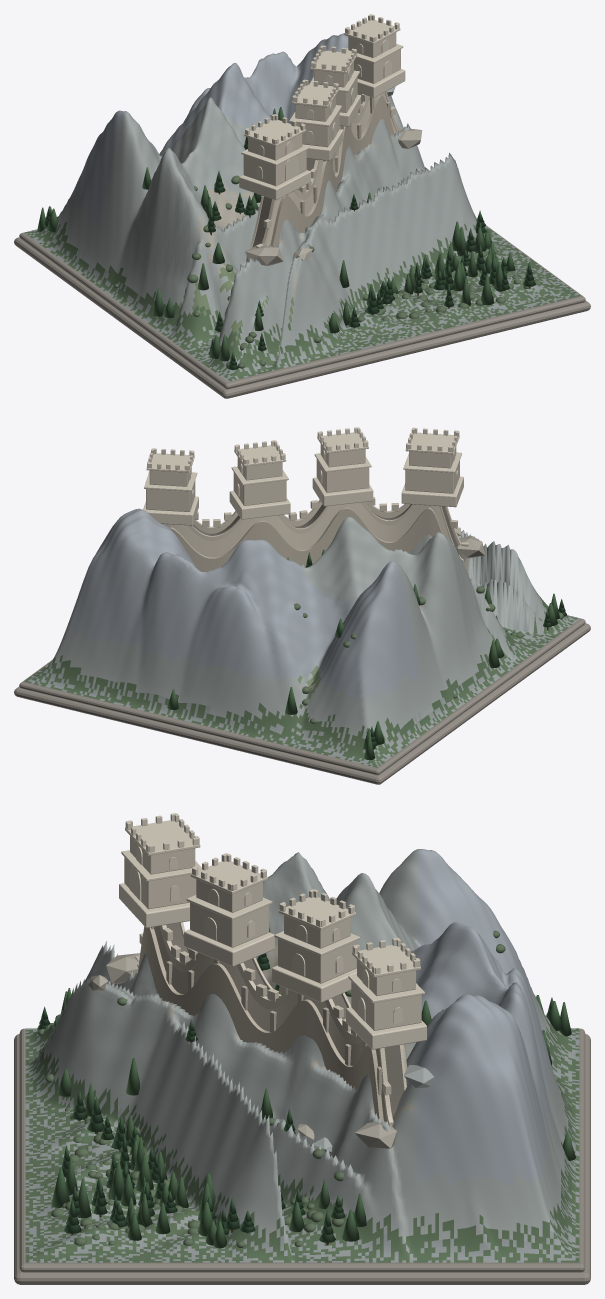
The model's file is great-wall.glb.
3 renders of one model, top to bottom at view 1: azimuth 30°, elevation 25°; view 2: azimuth 150°, elevation 25°; view 3: azimuth 270°, elevation 25°, orthographic. The views are drawn at different scales.
Visible parts, largest first — view 1: Ridge, Watchtowers, DioramaBase, GreatWall, CypressForest, PineForest, Shrubs, TowerOpenings, Rocks; view 2: Ridge, Watchtowers, GreatWall, DioramaBase, CypressForest, Shrubs, Rocks; view 3: Ridge, Watchtowers, DioramaBase, GreatWall, CypressForest, PineForest, Shrubs, Rocks, TowerOpenings.
Part boxes in pixels (x1,y1,x2,y2): Ridge: [24, 33, 580, 381]; Watchtowers: [239, 14, 405, 200]; DioramaBase: [14, 225, 590, 398]; GreatWall: [246, 91, 400, 261]; CypressForest: [37, 107, 515, 361]; PineForest: [43, 124, 535, 370]; Shrubs: [114, 115, 541, 368]; TowerOpenings: [256, 39, 391, 180]; Rocks: [245, 86, 422, 265]; Ridge: [24, 508, 580, 767]; Watchtowers: [143, 427, 463, 525]; GreatWall: [162, 497, 469, 574]; DioramaBase: [14, 618, 590, 784]; CypressForest: [167, 549, 559, 760]; Shrubs: [294, 586, 563, 723]; Rocks: [455, 527, 484, 558]; Ridge: [25, 849, 579, 1262]; Watchtowers: [119, 813, 426, 1049]; DioramaBase: [14, 1028, 590, 1284]; GreatWall: [135, 922, 407, 1126]; CypressForest: [51, 927, 575, 1248]; PineForest: [37, 953, 553, 1245]; Shrubs: [38, 930, 505, 1247]; Rocks: [88, 953, 434, 1153]; TowerOpenings: [129, 846, 402, 1023].
Size of the model in its own units: 200 by 110 by 200.
